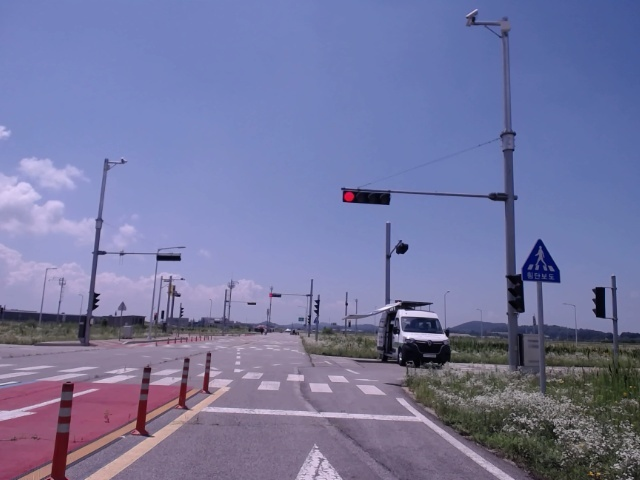red_4: (343, 190, 390, 205)
